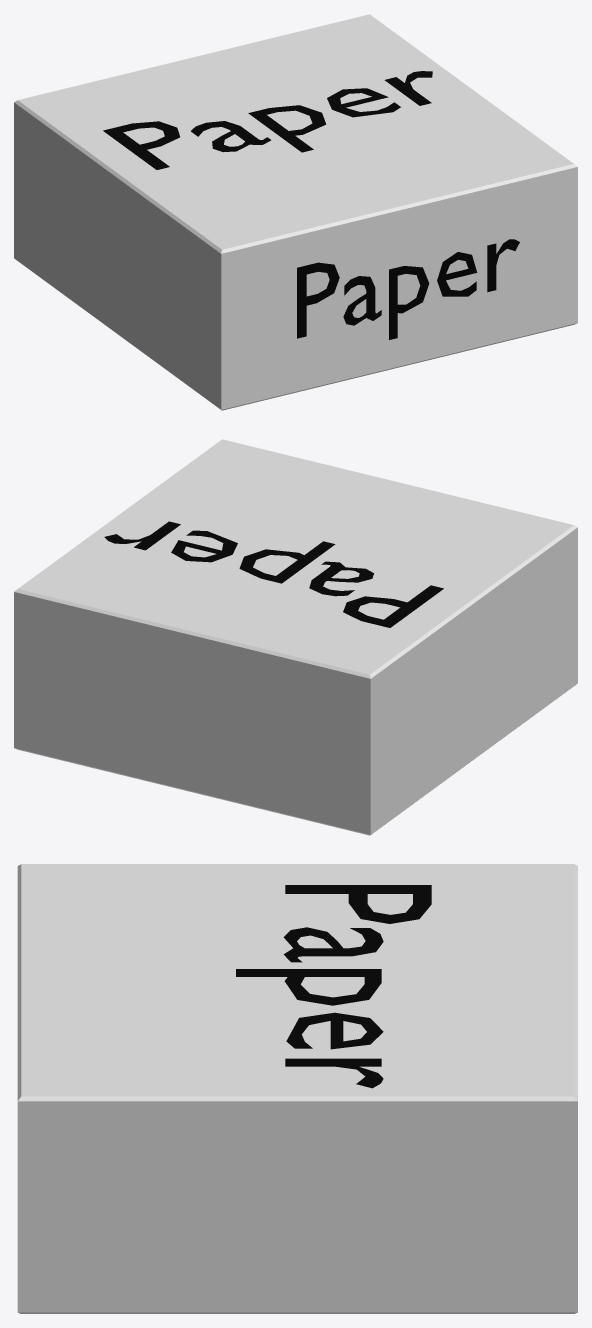
Rendered from Ma_Napkin_1.fbx.
The picture shows the model from 3 angles, top to bottom: view 1: azimuth 30°, elevation 25°; view 2: azimuth 150°, elevation 25°; view 3: azimuth 270°, elevation 25°; orthographic projection. The views are drawn at different scales.
Parts seen in each view (by area): view 1: Ma_Napkin_1; view 2: Ma_Napkin_1; view 3: Ma_Napkin_1.
Part boxes in pixels (left/top/right/bottom): Ma_Napkin_1: left=14, top=14, right=577, bottom=410; Ma_Napkin_1: left=14, top=439, right=577, bottom=835; Ma_Napkin_1: left=17, top=864, right=577, bottom=1313.
Size of the model in its own units: 142 by 144 by 61.62.
